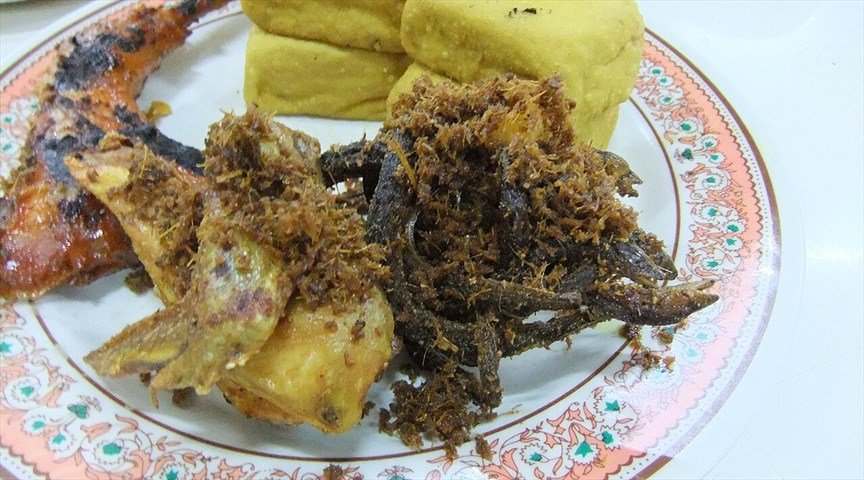Ayam Goreng: (94, 55, 651, 417)
